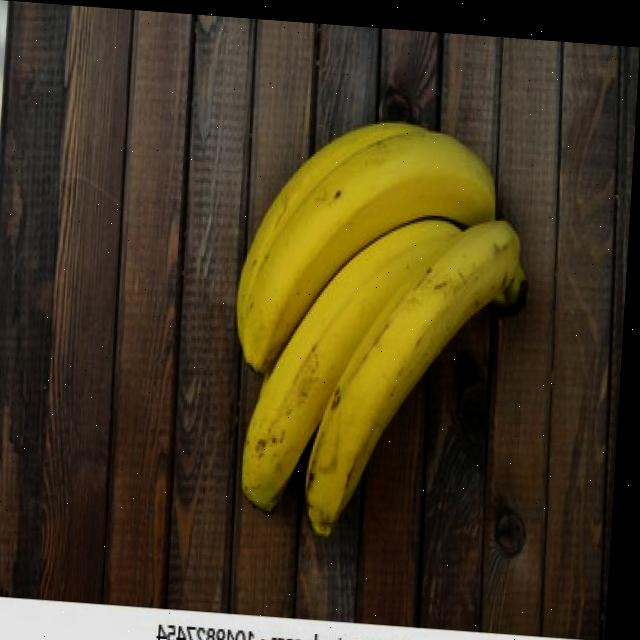banana: (218, 98, 541, 562)
